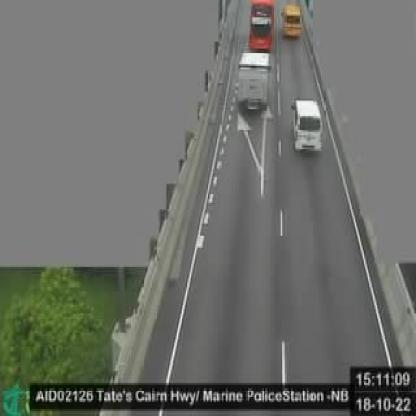Bus: (249, 2, 274, 51), (282, 4, 304, 41)
Car: (291, 98, 325, 157)
Truck: (237, 50, 272, 113)
